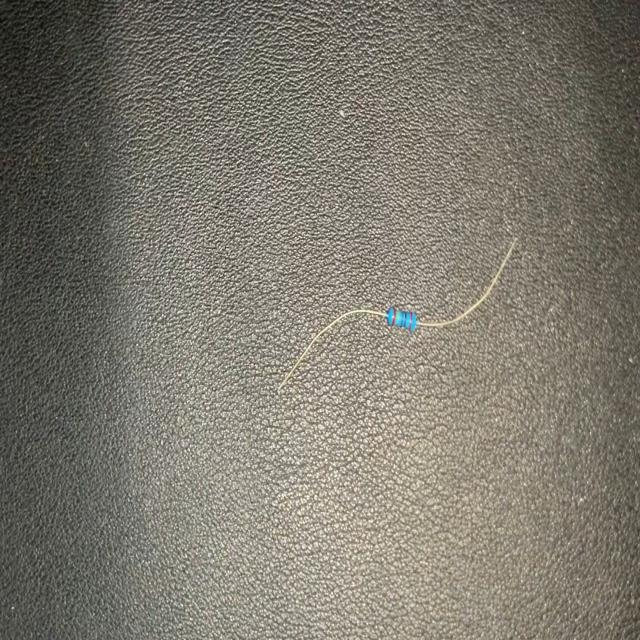resistor: (273, 224, 519, 396)
